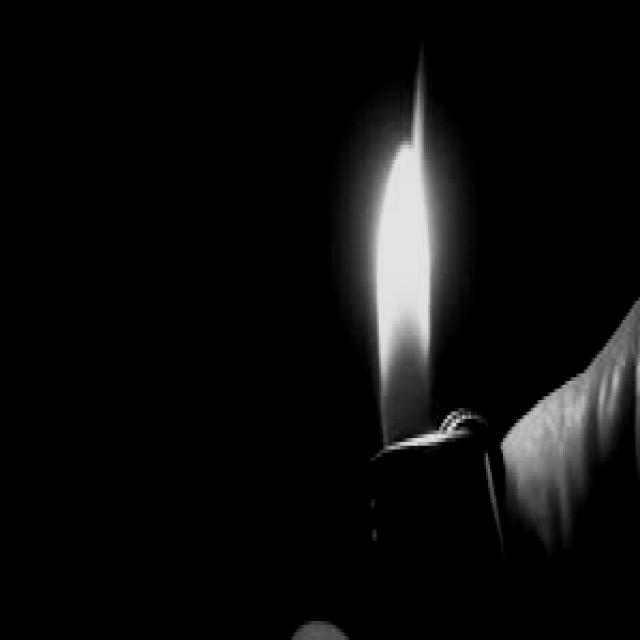fire: (366, 110, 447, 450)
